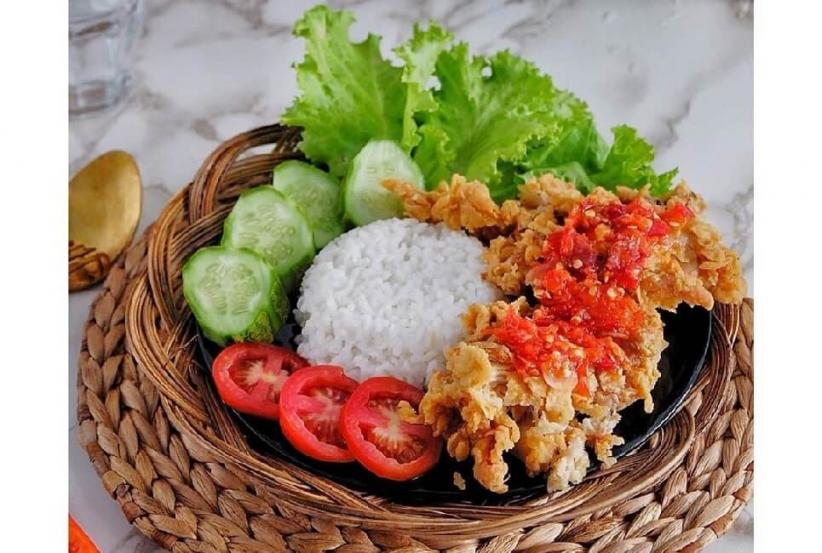ayam_geprek: (467, 174, 709, 499)
